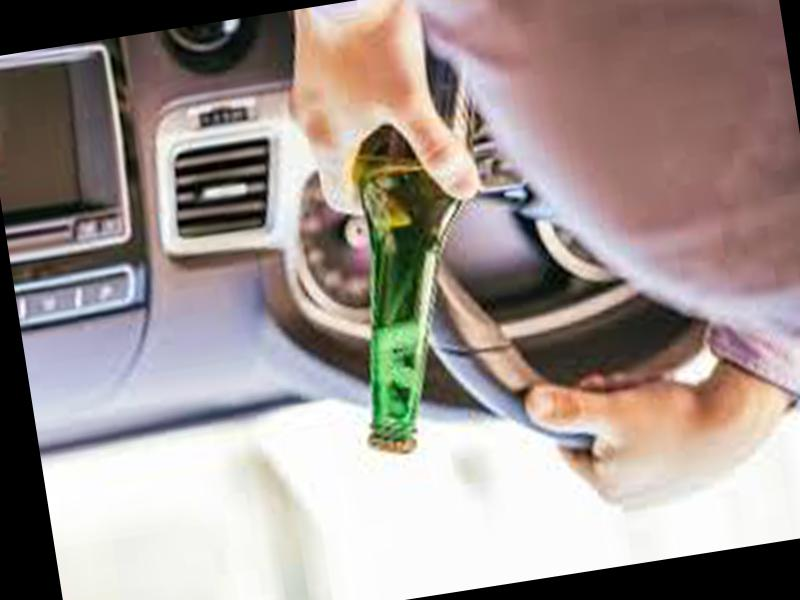Beer: (305, 30, 524, 462)
